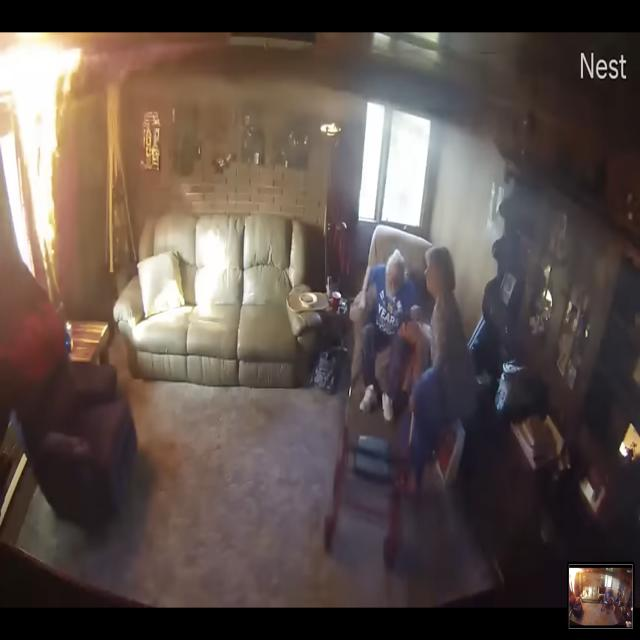Fogo: (5, 41, 146, 370)
